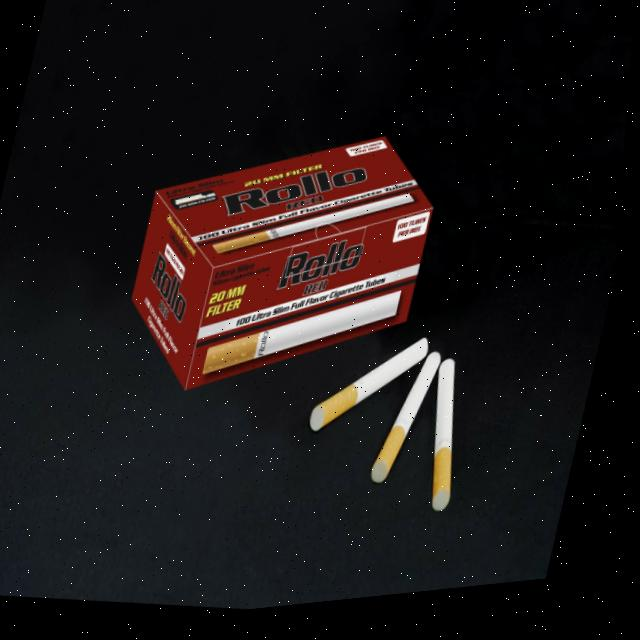cigarette: (307, 338, 428, 434), (371, 352, 441, 484), (432, 359, 456, 512)
